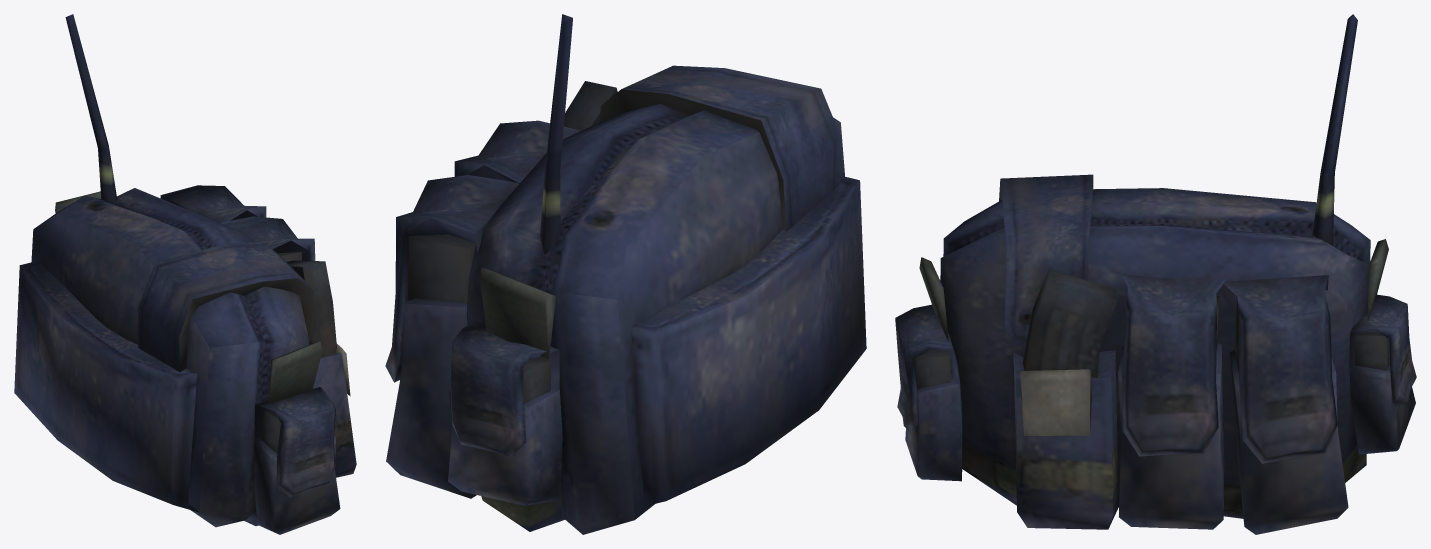
Rendered from p_glo_scavenger_pack_LOD0.obj.
3 renders of one model, left to right at view 1: azimuth 30°, elevation 25°; view 2: azimuth 150°, elevation 25°; view 3: azimuth 270°, elevation 25°, orthographic. The views are drawn at different scales.
Visible parts, largest first — view 1: mtl_p_glo_scavenger_pack_01, mtl_p_glo_scavenger_pack_02; view 2: mtl_p_glo_scavenger_pack_01, mtl_p_glo_scavenger_pack_02; view 3: mtl_p_glo_scavenger_pack_01, mtl_p_glo_scavenger_pack_02.
Part boxes in pixels (<box>): mtl_p_glo_scavenger_pack_01: <box>14,185,356,534</box>; mtl_p_glo_scavenger_pack_02: <box>65,14,336,519</box>; mtl_p_glo_scavenger_pack_01: <box>385,65,866,534</box>; mtl_p_glo_scavenger_pack_02: <box>408,14,702,531</box>; mtl_p_glo_scavenger_pack_01: <box>895,174,1416,534</box>; mtl_p_glo_scavenger_pack_02: <box>914,14,1389,389</box>.
Size of the model in its own units: 25.29 by 43.23 by 44.03.
